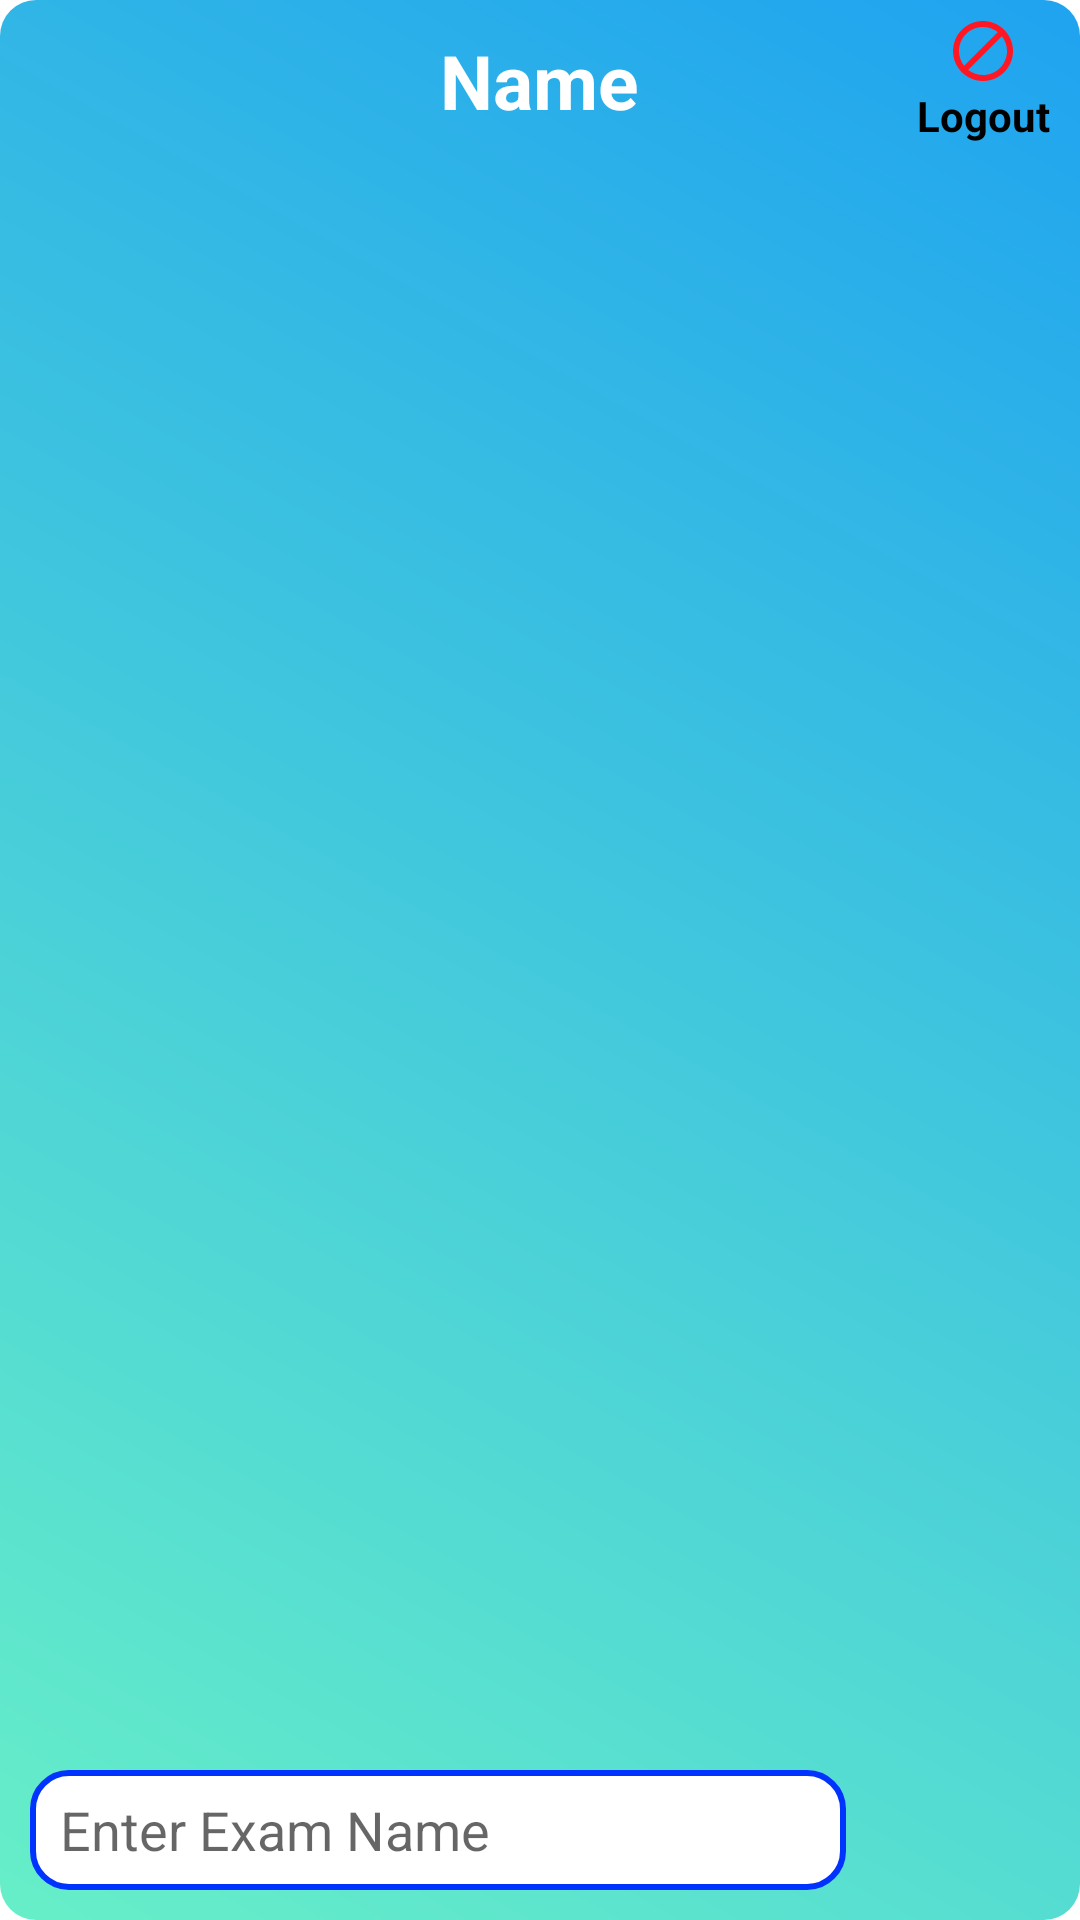

Icon click points for this 1080×1920 phone screenshot, format point (x, y):
block: point (983, 51)
